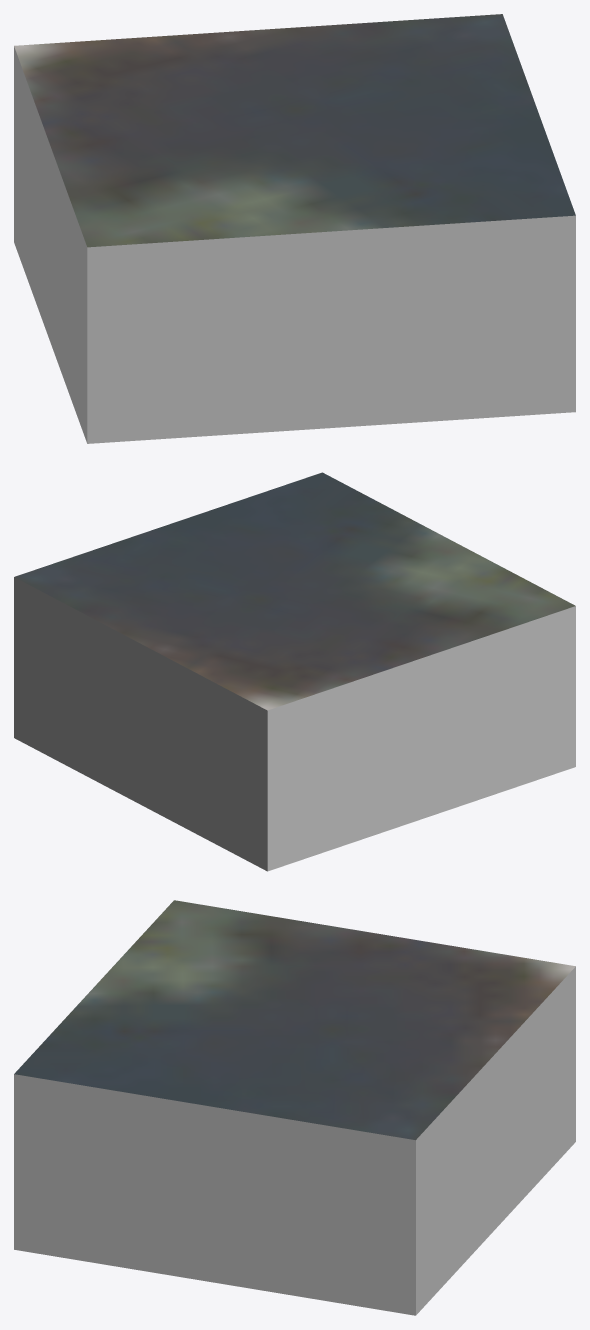
The model's file is DEBW_0010007Txfj.gltf.
The picture shows the model from 3 angles, top to bottom: view 1: azimuth 30°, elevation 25°; view 2: azimuth 150°, elevation 25°; view 3: azimuth 270°, elevation 25°; orthographic projection. The views are drawn at different scales.
Visible parts, largest first — view 1: Z_UP; view 2: Z_UP; view 3: Z_UP.
Boxes of the visible parts, x1,y1,x2,y2 form: Z_UP: (14, 14, 575, 443); Z_UP: (14, 472, 575, 871); Z_UP: (14, 900, 575, 1315).
Size of the model in its own units: 7.52 by 2.57 by 7.44.
Materials: 2 (1 with a texture image).
